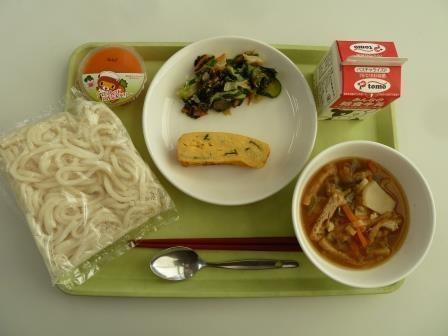Bread: (177, 116, 268, 186)
Cup desserts: (81, 40, 151, 110)
Milk: (315, 23, 415, 118)
Salad: (177, 47, 277, 120)
Soups: (299, 142, 432, 288)
Udon: (0, 104, 159, 272)
